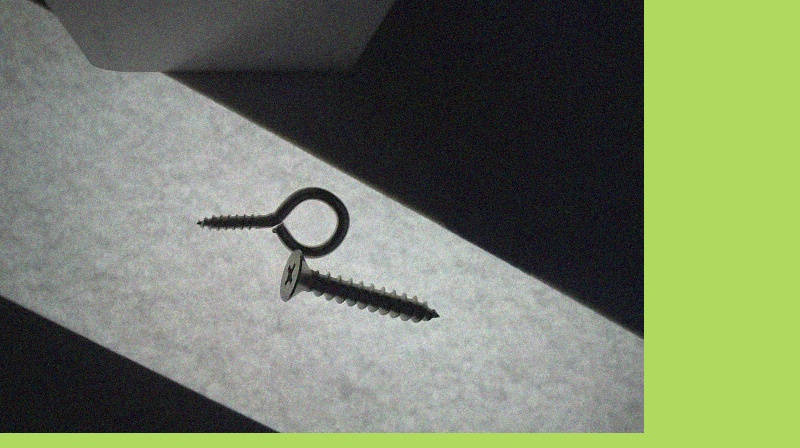O001: (193, 183, 352, 259)
S001: (277, 248, 439, 323)
